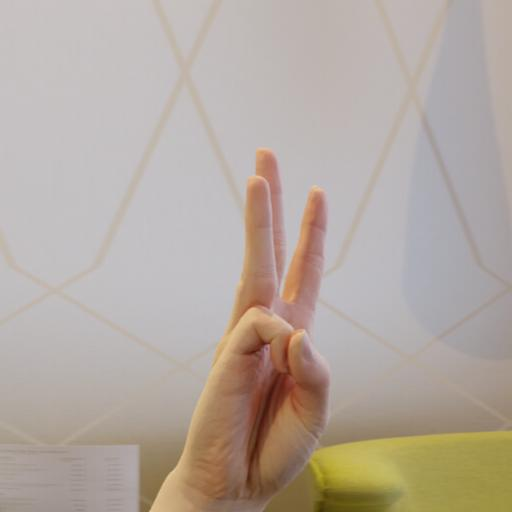W: (175, 136, 343, 502)
